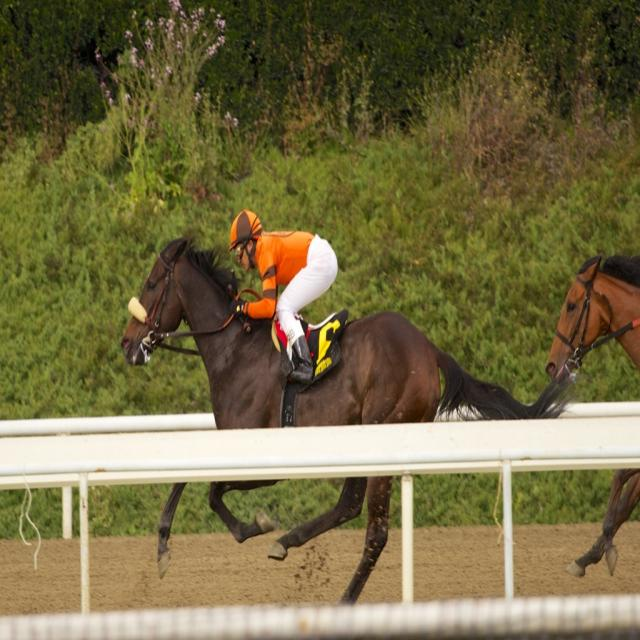Horse: (121, 230, 594, 606), (545, 250, 640, 576)
